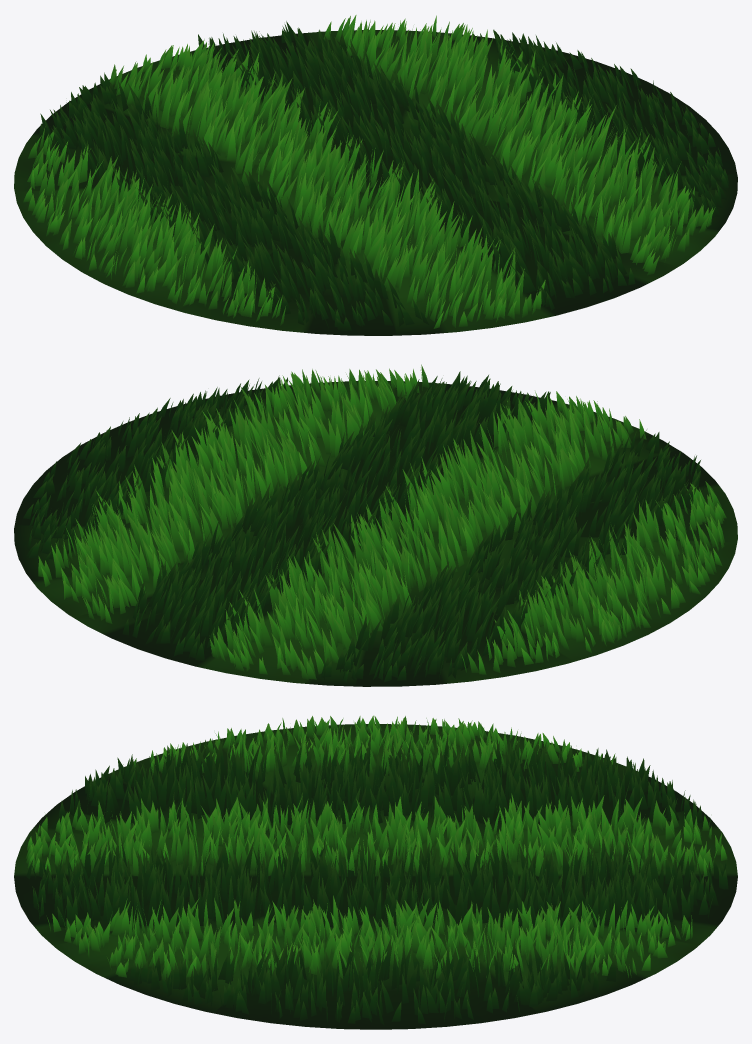
File: ground.glb
3 renders of one model, top to bottom at view 1: azimuth 30°, elevation 25°; view 2: azimuth 150°, elevation 25°; view 3: azimuth 270°, elevation 25°, orthographic.
Visible parts, largest first — view 1: SM_Ground_001_Grass, SM_Ground_001_Turf; view 2: SM_Ground_001_Grass, SM_Ground_001_Turf; view 3: SM_Ground_001_Grass, SM_Ground_001_Turf.
Part boxes in pixels (box(x1,y1,x2,y2)): SM_Ground_001_Grass: box(23, 15, 729, 331); SM_Ground_001_Turf: box(14, 30, 737, 335); SM_Ground_001_Grass: box(23, 364, 726, 682); SM_Ground_001_Turf: box(14, 381, 737, 686); SM_Ground_001_Grass: box(25, 715, 728, 1025); SM_Ground_001_Turf: box(14, 724, 737, 1029).
Bounding box in the file's own units: 0.06 × 0.00372 × 0.06.
